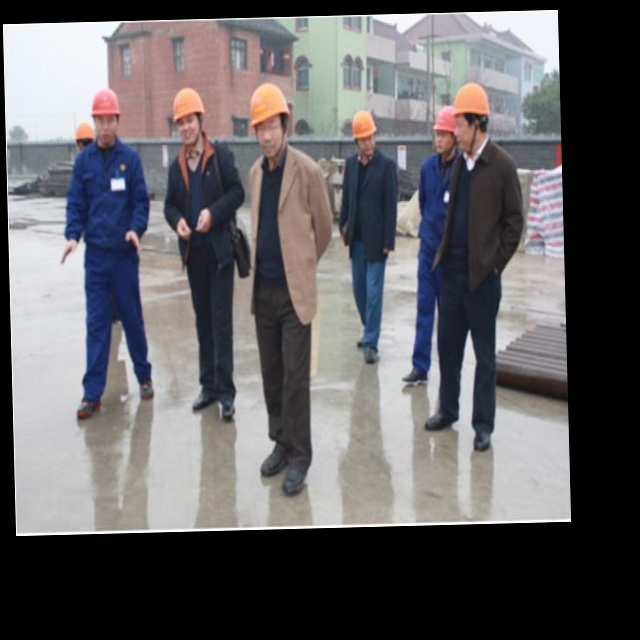Con_Casco: (248, 81, 291, 157), (172, 86, 204, 143)
